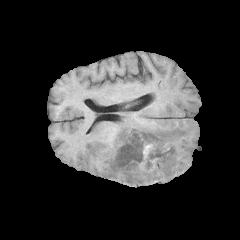glioma: (102, 115, 191, 185)
